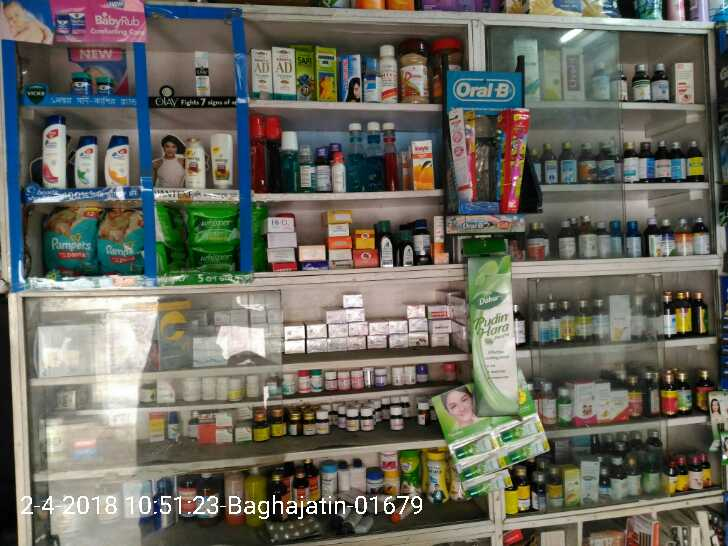oralcare: (447, 72, 526, 218)
vicks: (73, 70, 114, 96)
